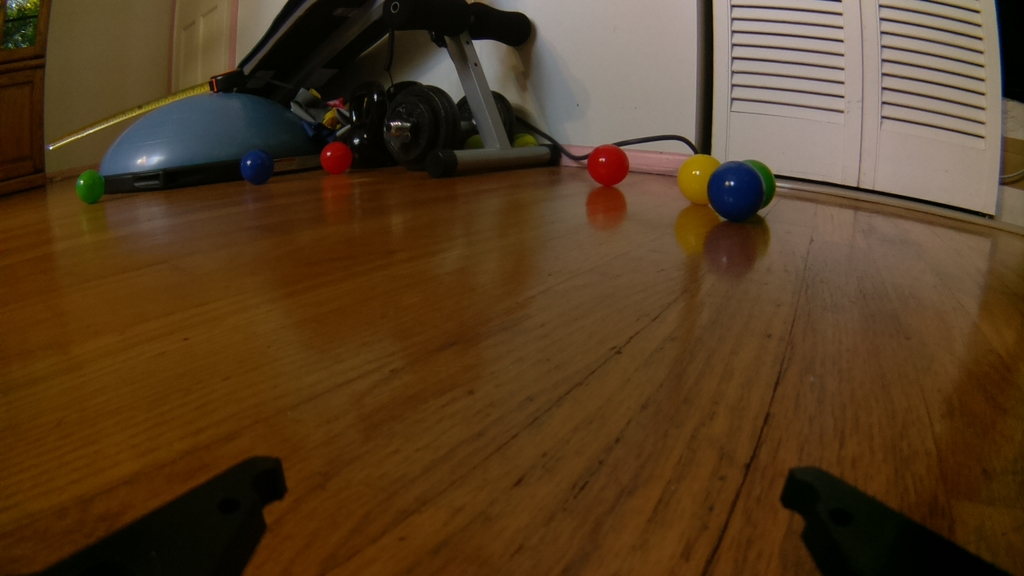ball: (741, 156, 776, 213)
